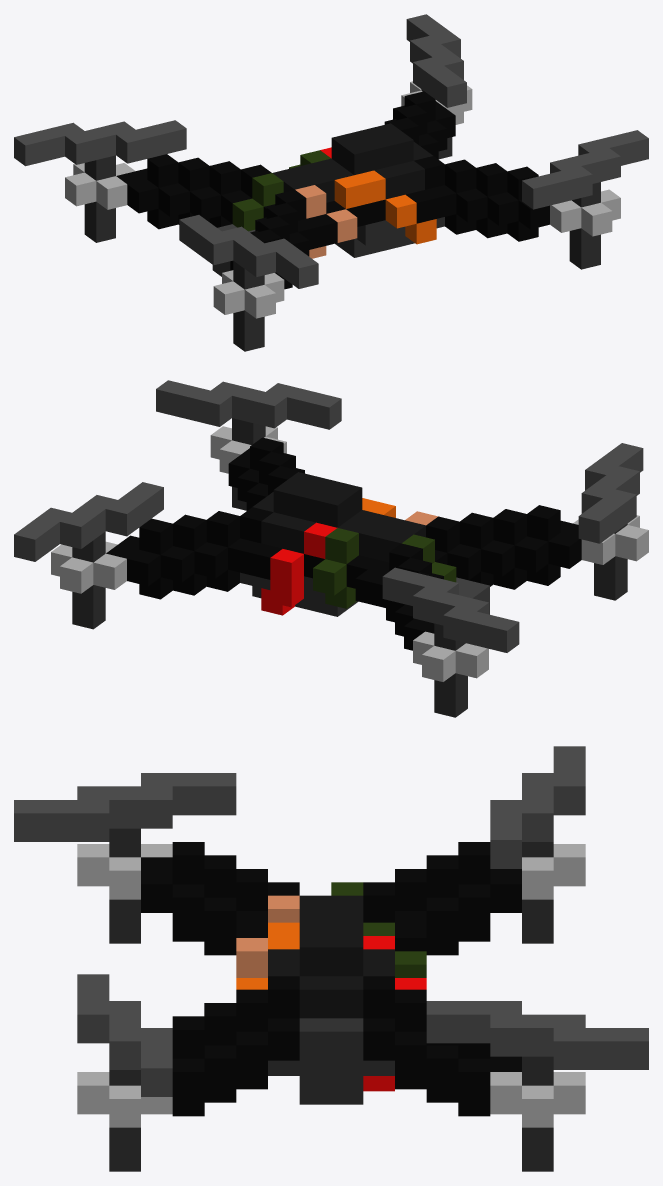
The model's file is dron_1.obj.
The picture shows the model from 3 angles, top to bottom: view 1: azimuth 30°, elevation 25°; view 2: azimuth 150°, elevation 25°; view 3: azimuth 270°, elevation 25°; orthographic projection. The views are drawn at different scales.
Size of the model in its own units: 2.4 by 0.5 by 2.
Materials: 1 (1 with a texture image).
